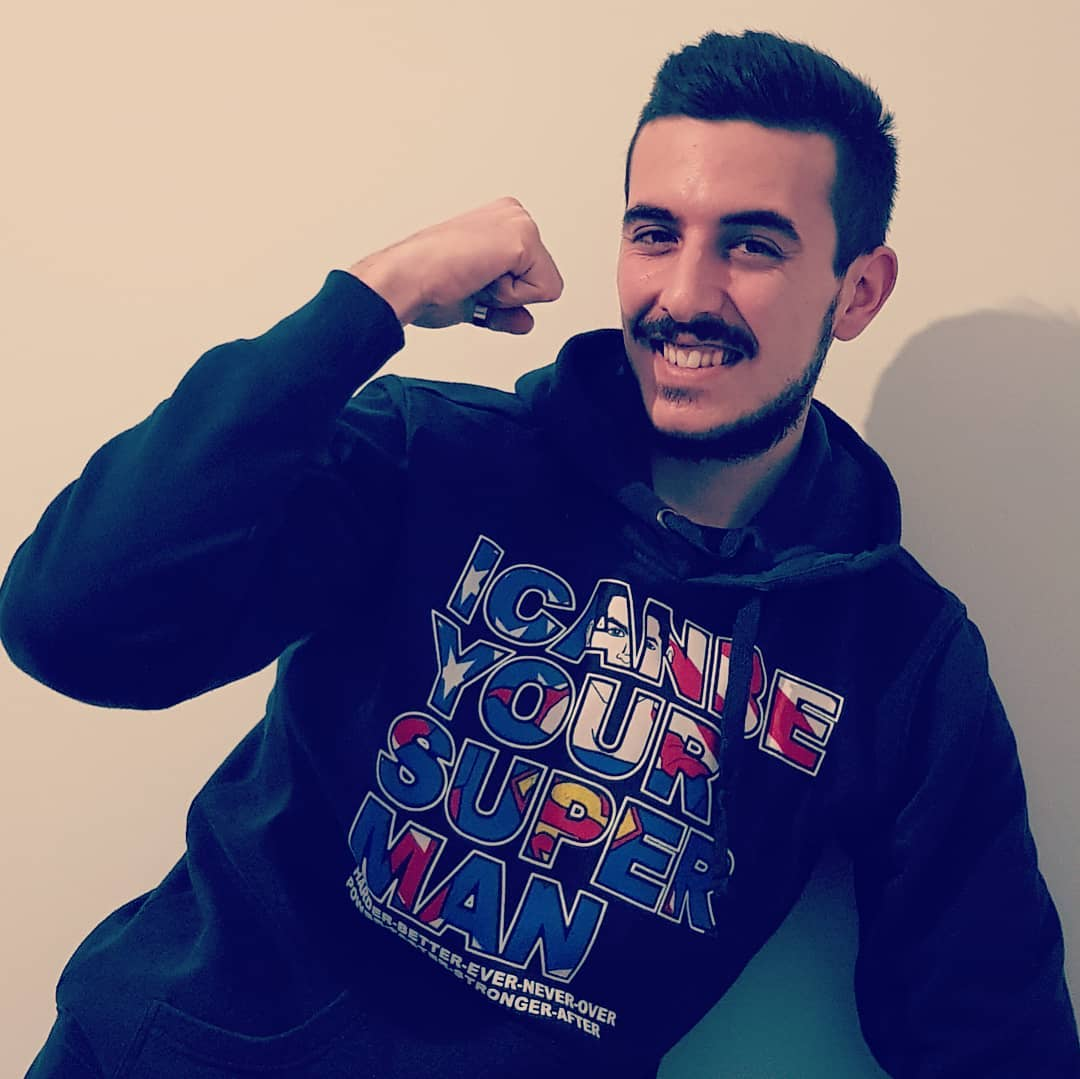hand: (351, 200, 542, 321)
